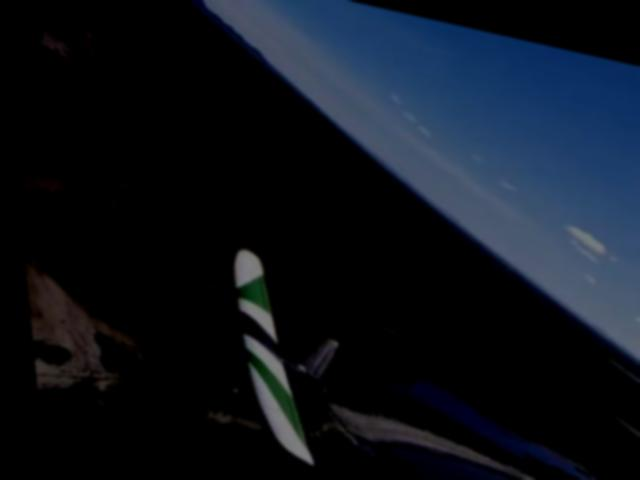uav: (135, 234, 384, 466)
